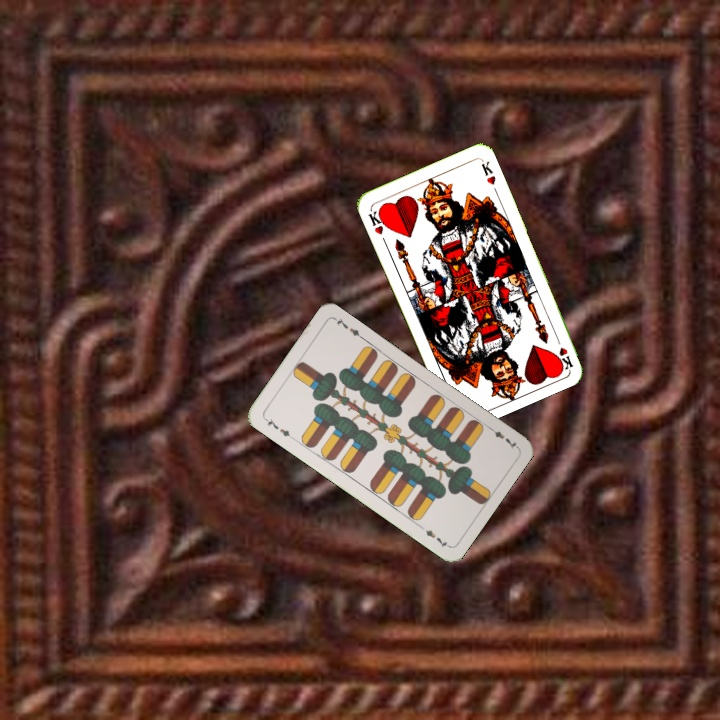E7: (484, 422, 520, 451), (260, 414, 296, 441)
HK: (551, 331, 575, 371), (364, 205, 389, 237)
